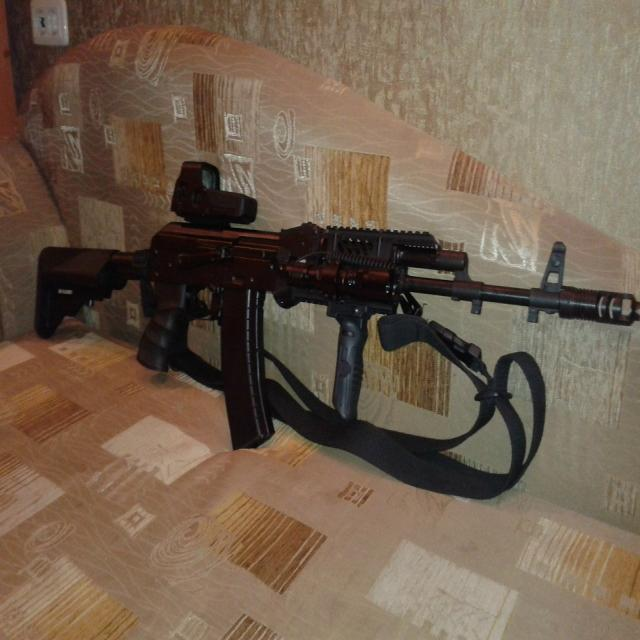firearm: (34, 157, 640, 447)
